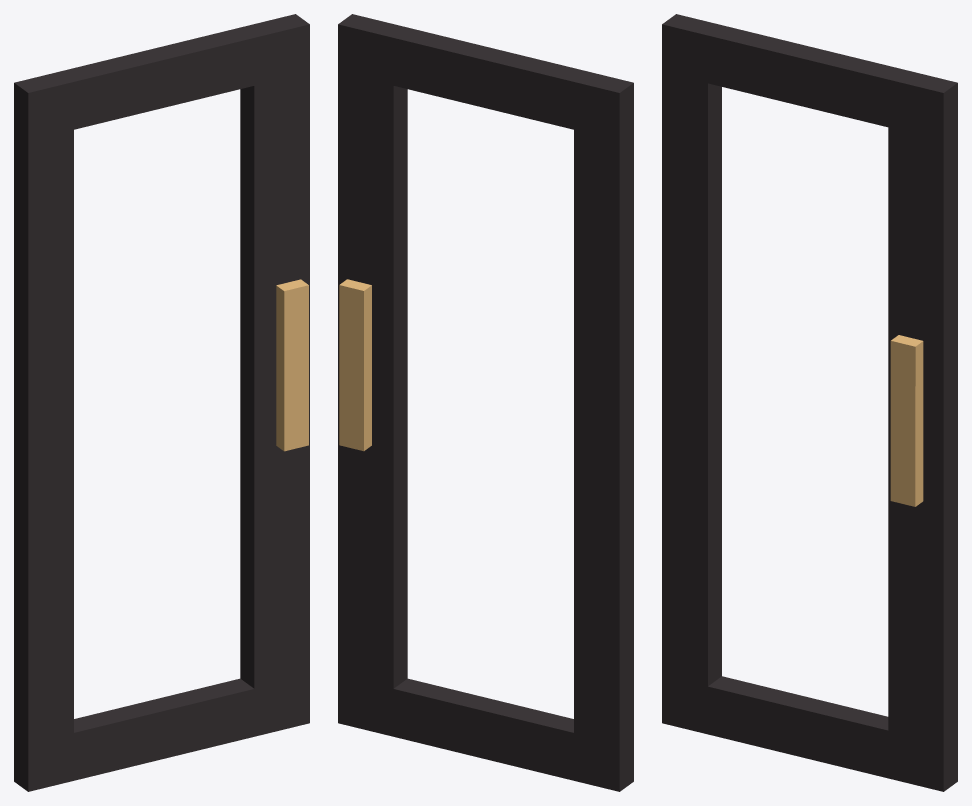
File: Door_right.fbx
The picture shows the model from 3 angles, left to right: view 1: azimuth 30°, elevation 25°; view 2: azimuth 150°, elevation 25°; view 3: azimuth 330°, elevation 25°; orthographic projection.
Parts seen in each view (by area): view 1: Door_right; view 2: Door_right; view 3: Door_right.
Boxes of the visible parts, <box> form: Door_right: <box>14,14,309,791</box>; Door_right: <box>338,14,633,791</box>; Door_right: <box>662,14,957,791</box>.
Bounding box in the file's own units: 1.18 × 2.8 × 0.2994.
